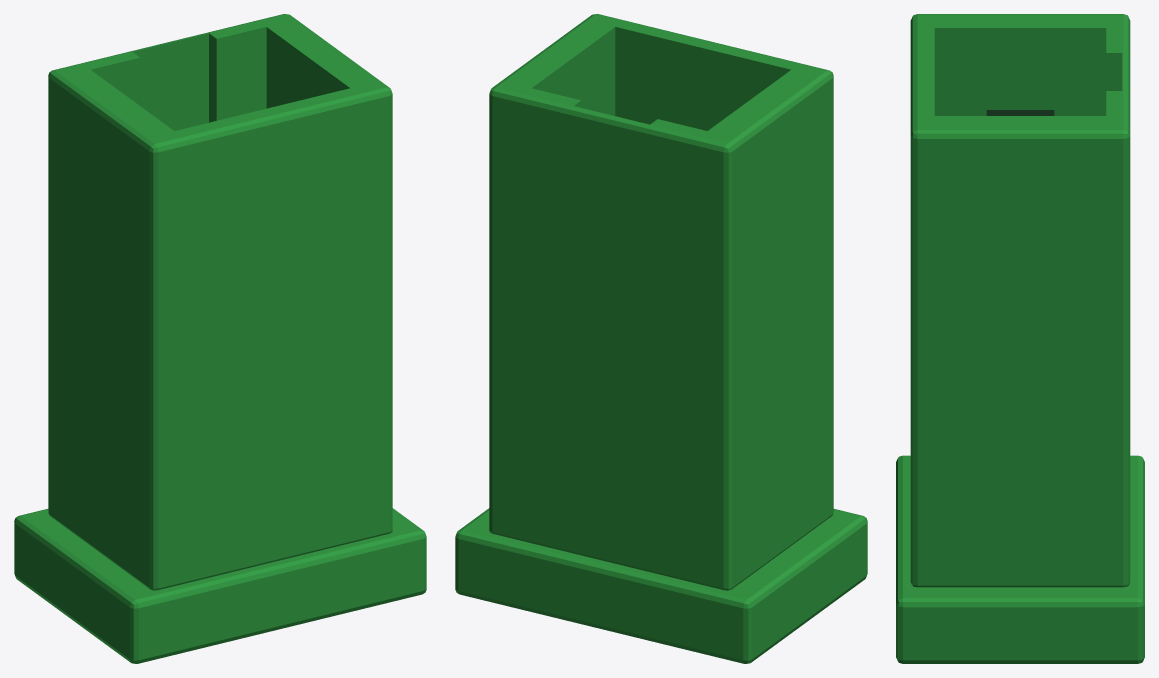
Rendered from adaptador_sc.glb.
3 views of the same model, side by side, from view 1: azimuth 30°, elevation 25°; view 2: azimuth 150°, elevation 25°; view 3: azimuth 270°, elevation 25° (orthographic). The views are drawn at different scales.
Parts seen in each view (by area): view 1: adsc_verd; view 2: adsc_verd; view 3: adsc_verd, adsc_cavitat.
Part boxes in pixels (x1,y1,x2,y2): adsc_verd: (14,14,426,663); adsc_verd: (455,14,867,663); adsc_verd: (896,14,1144,663); adsc_cavitat: (986,110,1054,115).
Bounding box in the file's own units: 0.0155 × 0.0254 × 0.011.
